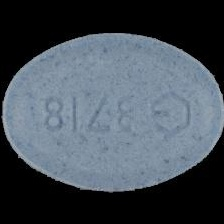50090-0522: (0, 0, 224, 224)
